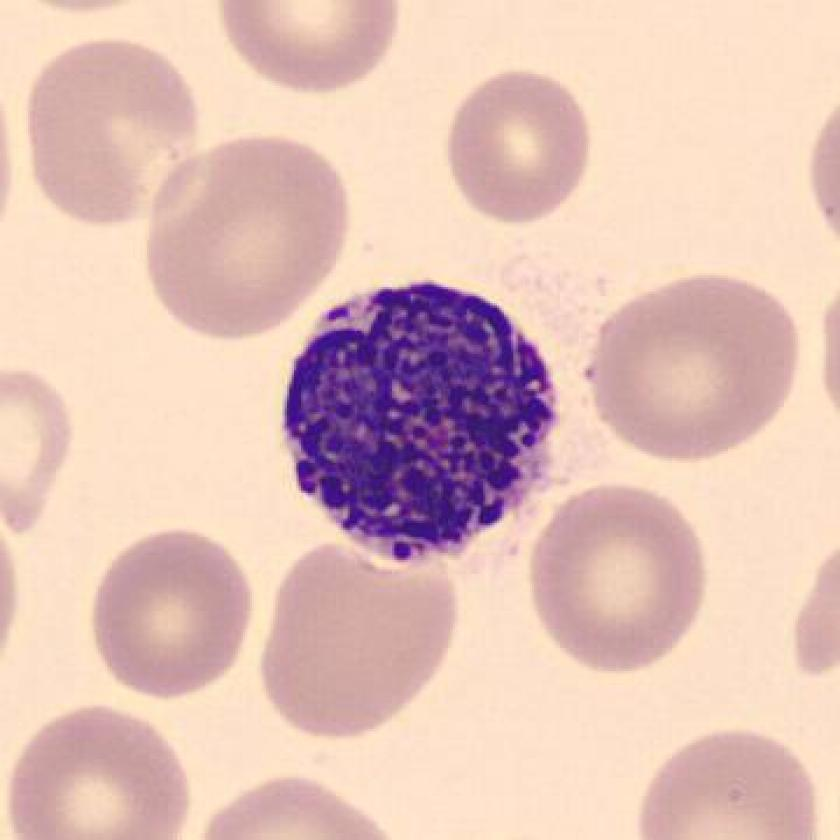basophil: (284, 270, 571, 573)
